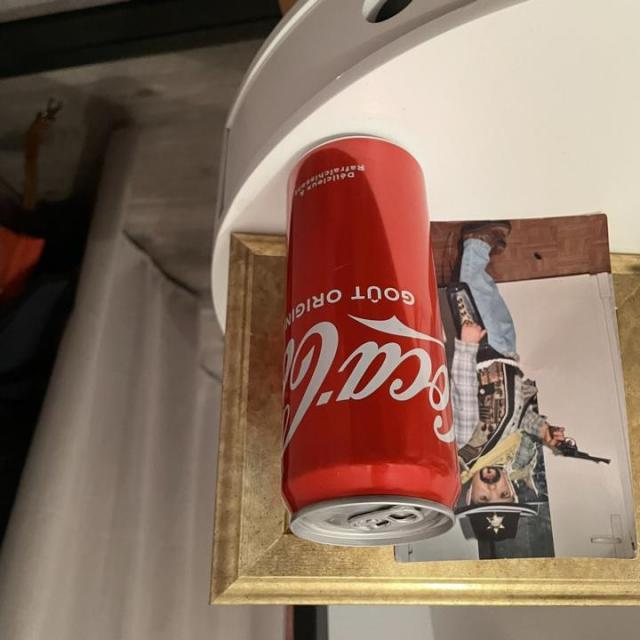can: (268, 129, 472, 554)
